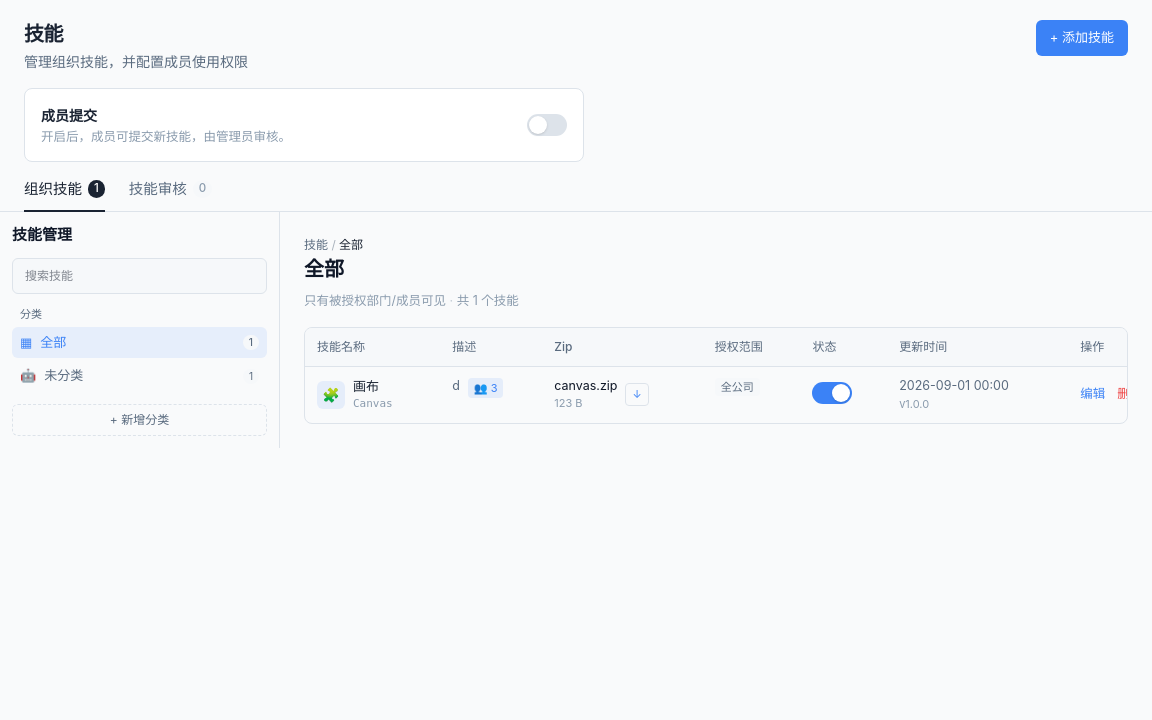
Test case: SkillManagePage › edit drawer PATCHes the org-scoped shape without role fields
// Open the row's edit drawer.
Step 1. Click the button "编辑" → point(1093, 395), box [1080, 385, 1105, 404]
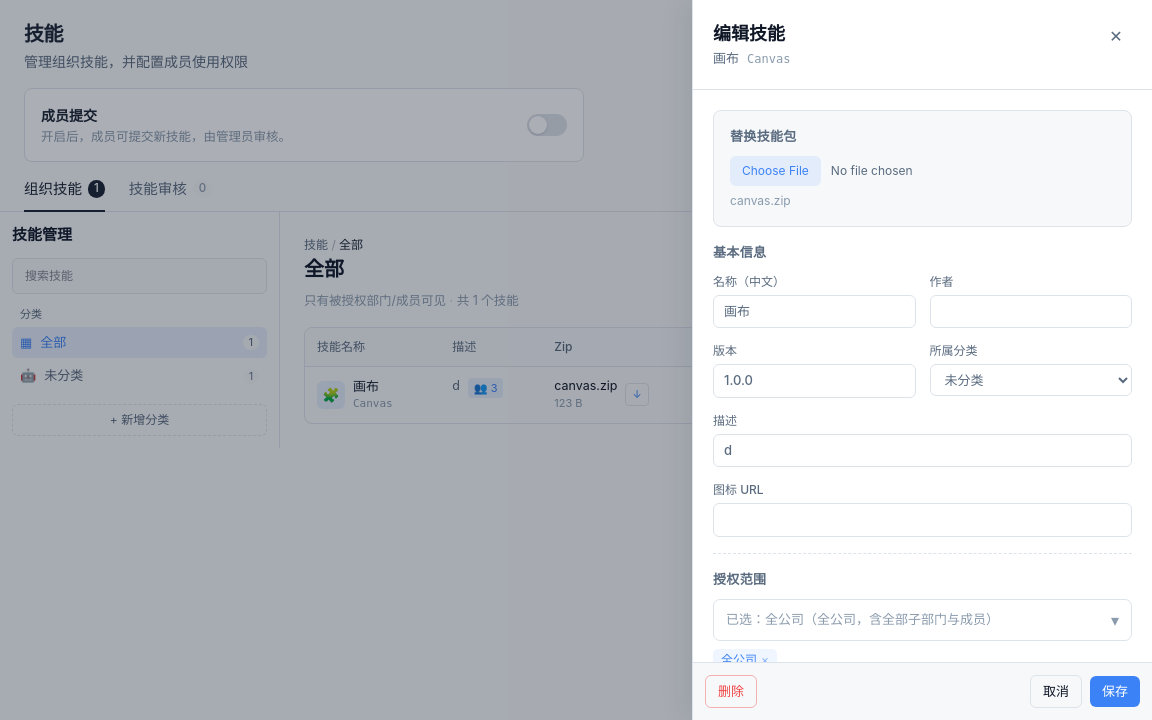
Expected: the field labelled "名称（中文）" holds "画布"
Step 2. Replace the text in the field labelled "名称（中文）" with "画布2" → point(814, 311), box [713, 294, 916, 328]
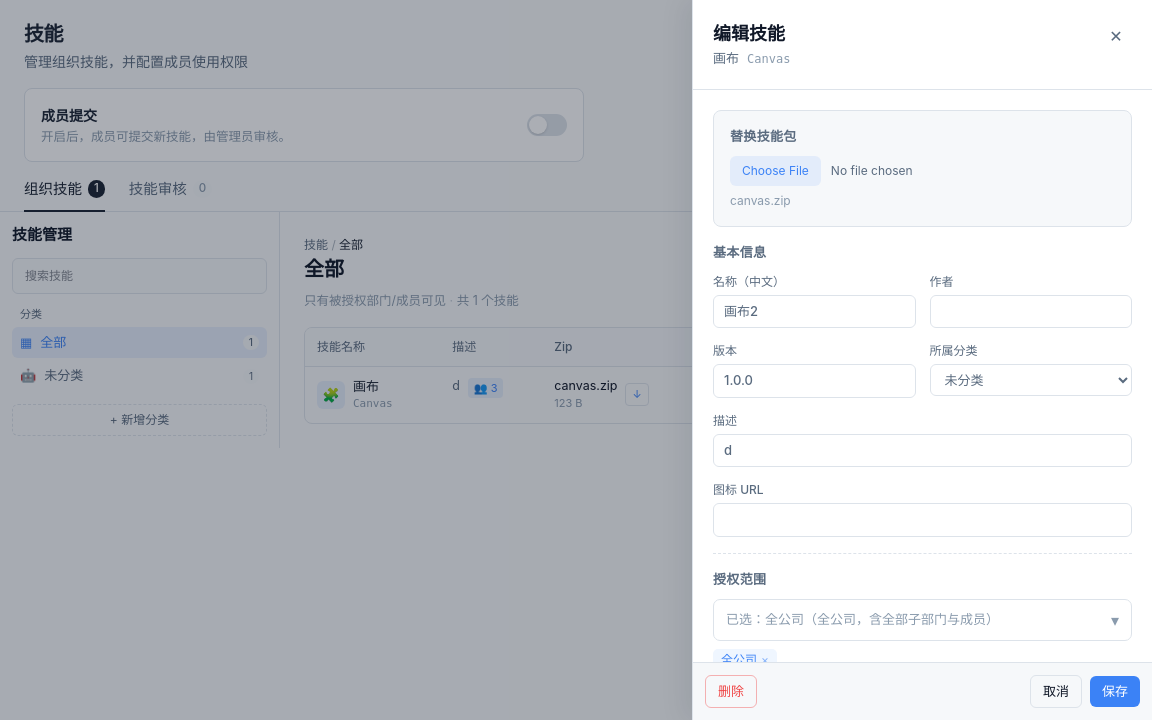
Step 3. Click the button "保存" → point(1115, 691), box [1090, 676, 1140, 707]
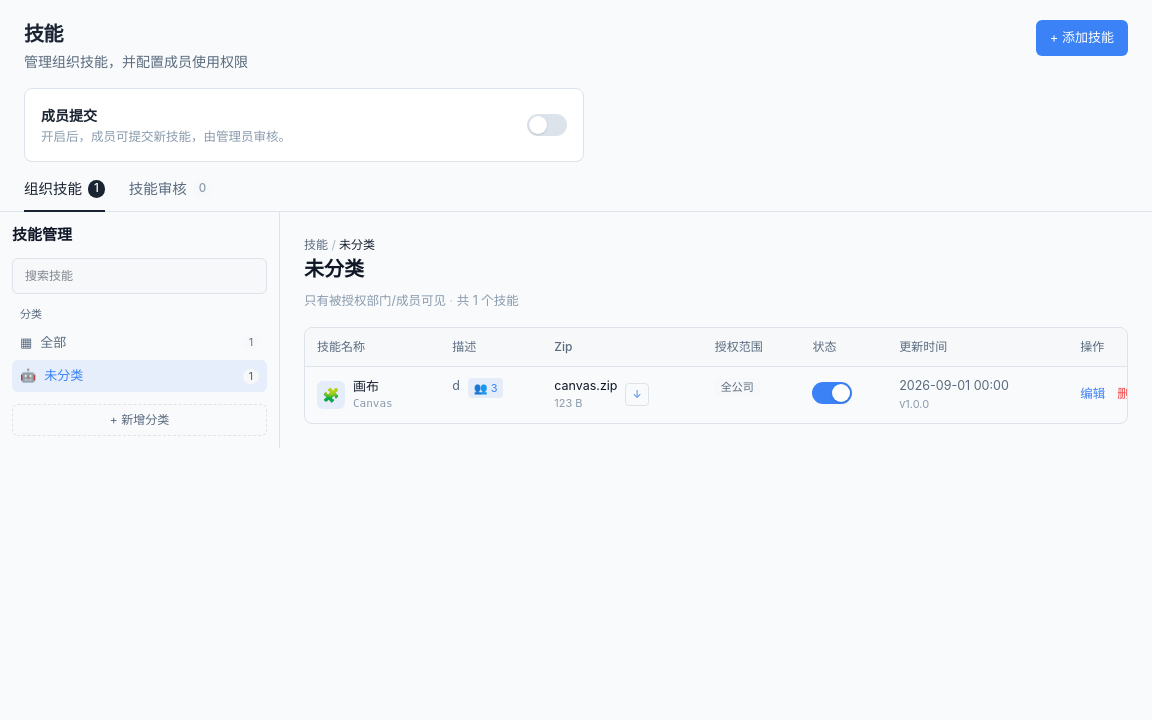
Expected: the label labelled "名称（中文）" is gone
